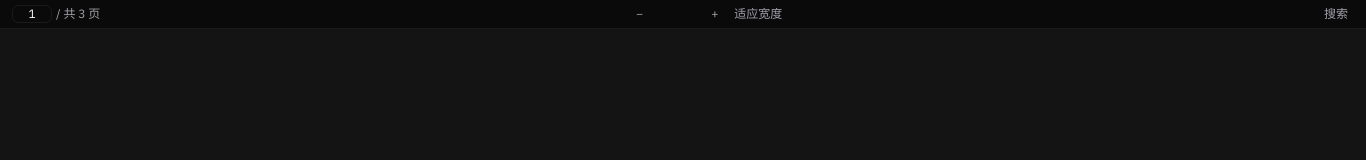
Test: PdfViewer › 应该_当输入有效页码回车时_跳转_越界或非数字时恢复当前页
Check: the element with test id "pdf-toolbar" is shown, box [0, 0, 1365, 29]
Replace the text in the field with test id "pdf-page-input" with "2" at [32, 14], box [12, 5, 52, 23]
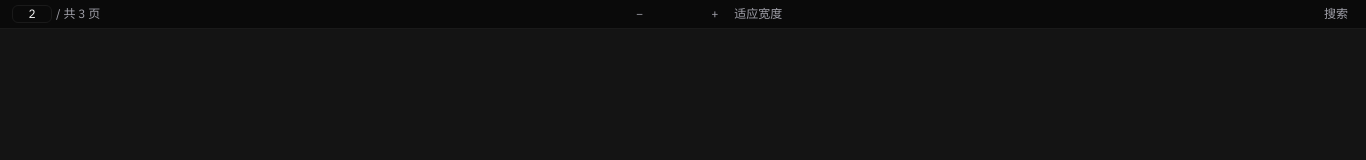
Press Enter in the field with test id "pdf-page-input", box [12, 5, 52, 23]
Replace the text in the field with test id "pdf-page-input" with "9" at [32, 14], box [12, 5, 52, 23]
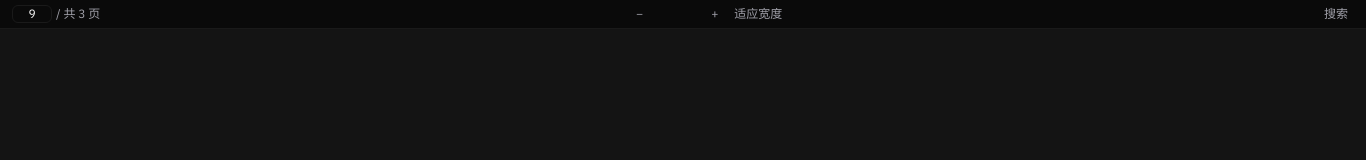
Press Enter in the field with test id "pdf-page-input", box [12, 5, 52, 23]
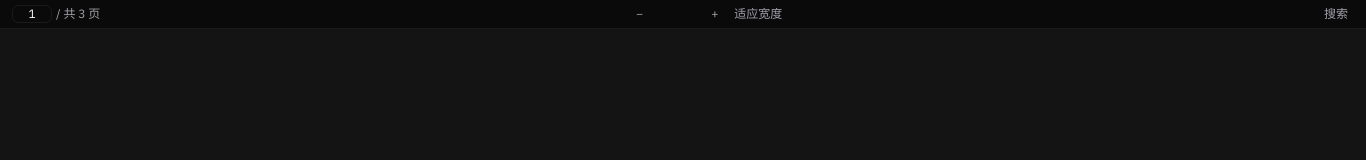
Check: the field with test id "pdf-page-input" holds "1"
Replace the text in the field with test id "pdf-page-input" with "abc" at [32, 14], box [12, 5, 52, 23]
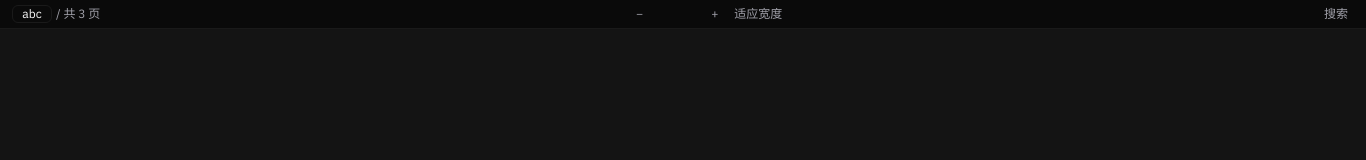
Leave the field with test id "pdf-page-input", box [12, 5, 52, 23]
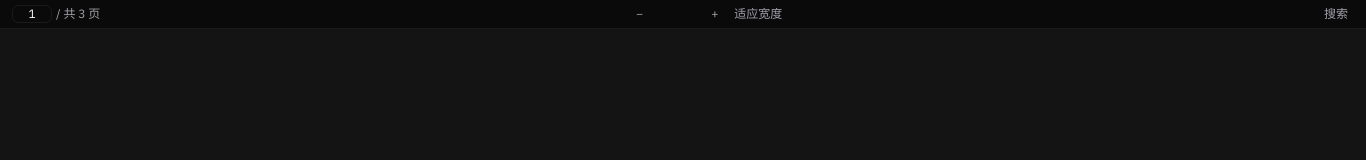
Check: the field with test id "pdf-page-input" holds "1", box [12, 5, 52, 23]
